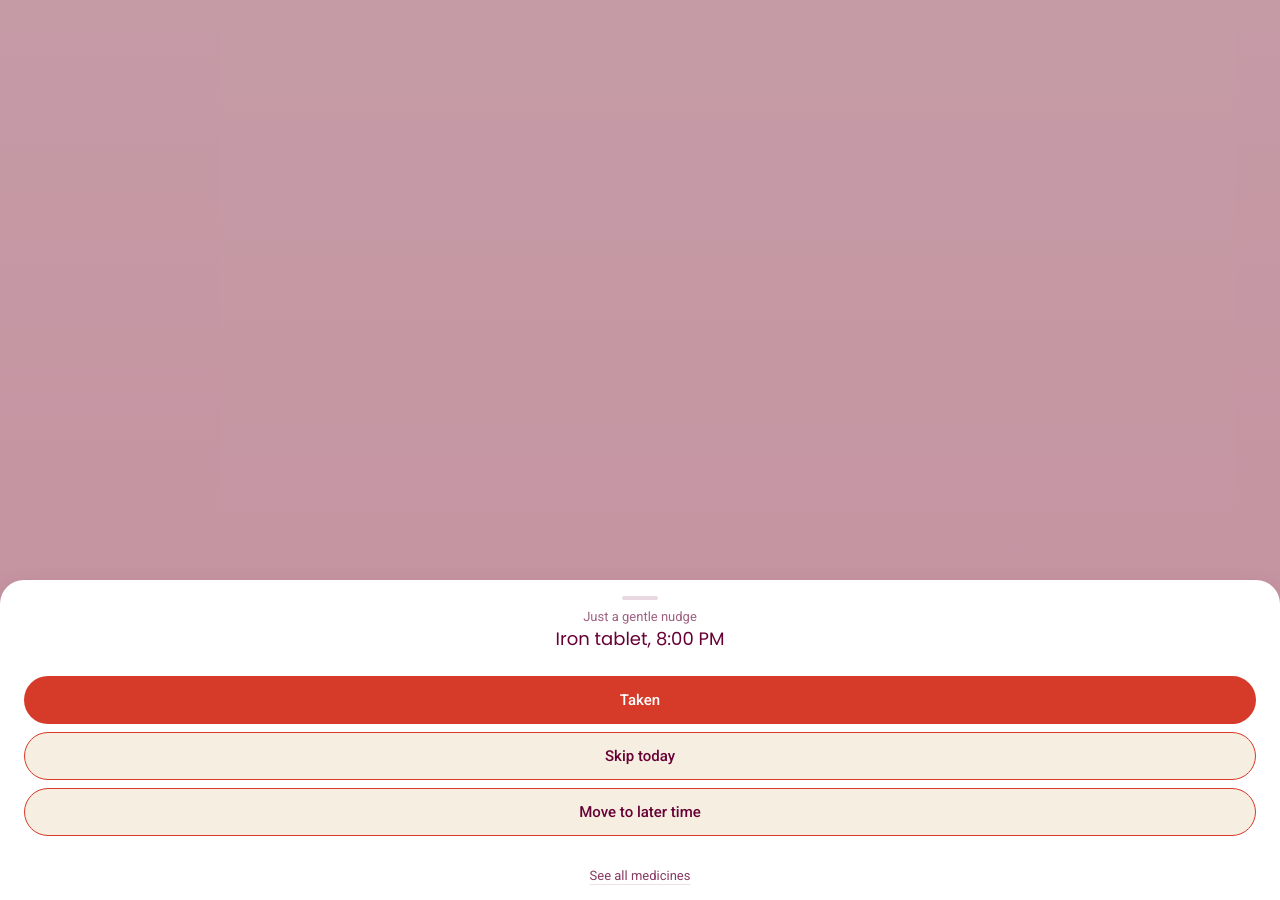
Test case: MedicineQuickActionSheet › logs Skip today and shows its own confirmation
This screenshot has width=1280, height=900.
Click the button "Skip today" at (640, 756), box x1=24 y1=732 x2=1256 y2=780
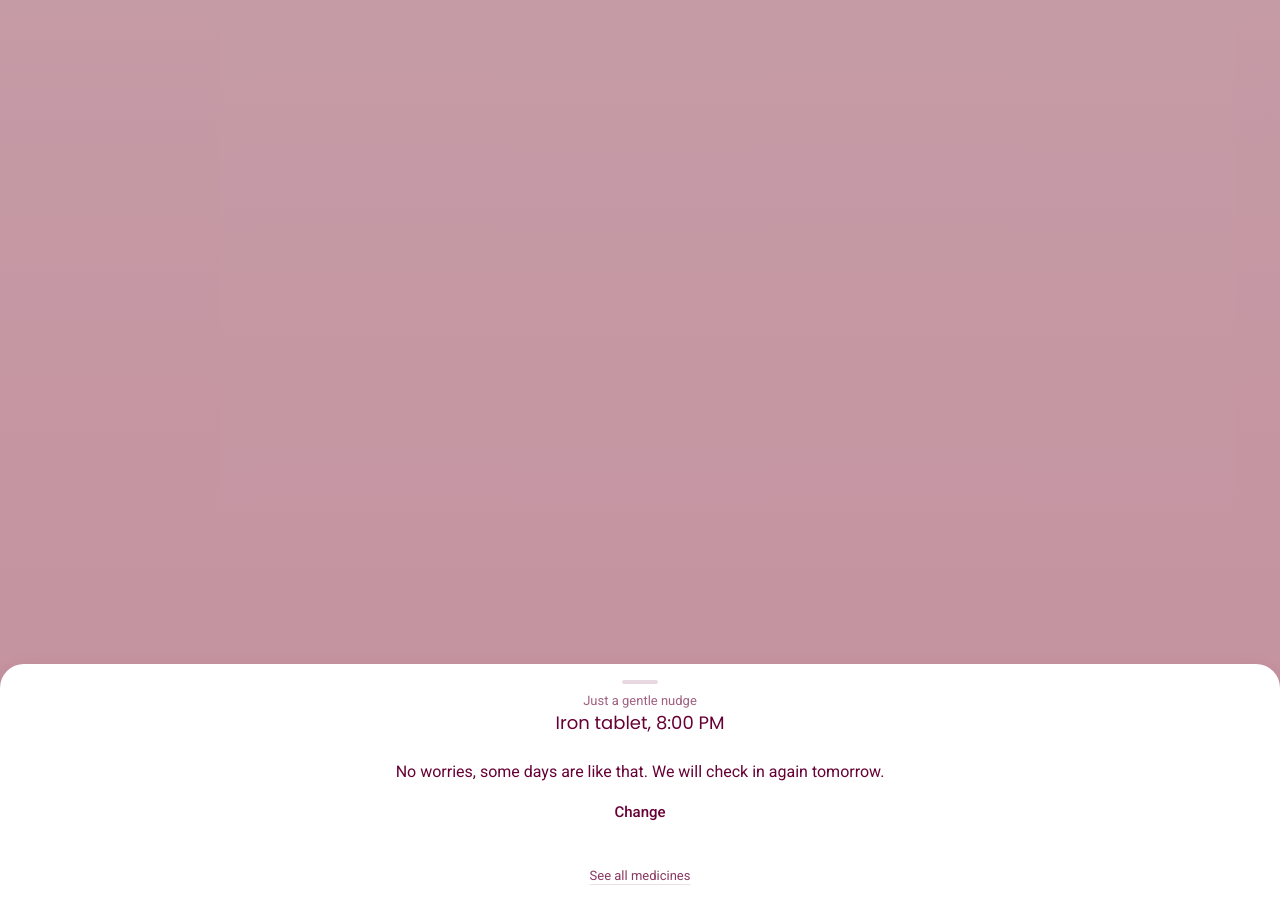
Check: the text "No worries, some days are like that. We will check in again tomorrow." is shown, box x1=396 y1=762 x2=884 y2=781
